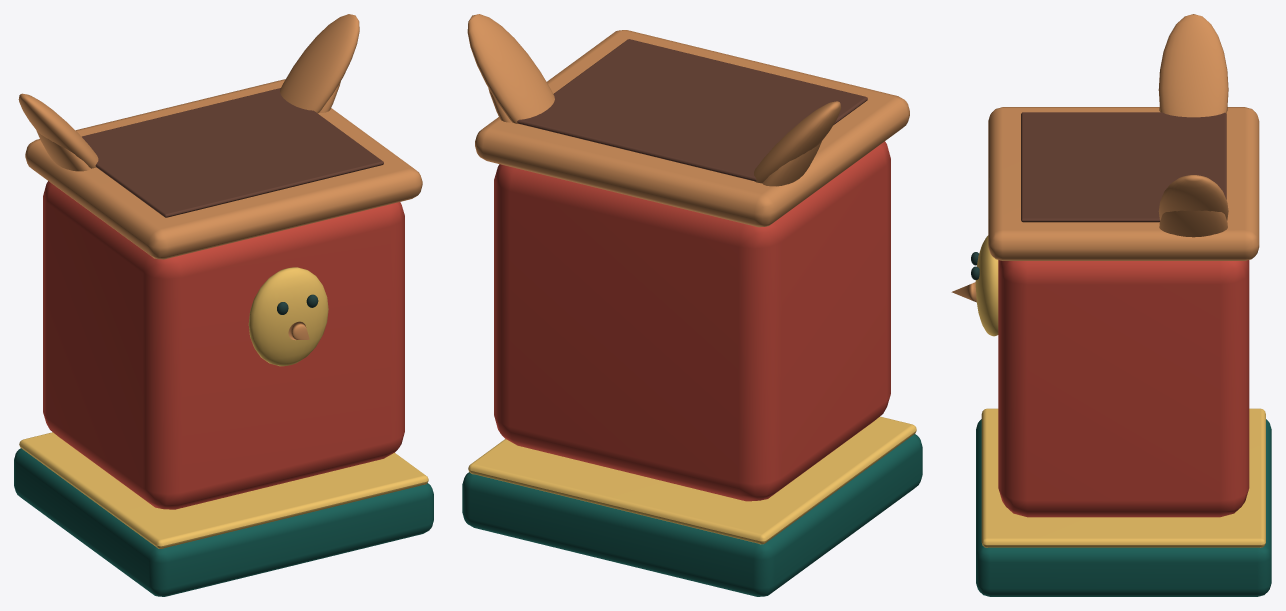
3 views of the same model, side by side, from view 1: azimuth 30°, elevation 25°; view 2: azimuth 150°, elevation 25°; view 3: azimuth 270°, elevation 25° (orthographic). The views are drawn at different scales.
Visible parts, largest first — view 1: Foundry body, Oil well lip, Oil well, Jade footing, Brass welt; view 2: Foundry body, Oil well lip, Oil well, Jade footing, Brass welt; view 3: Foundry body, Oil well lip, Oil well, Jade footing, Brass welt.
Part boxes in pixels (box(x1,y1,x2,y2)): Foundry body: box(43, 181, 404, 509); Oil well lip: box(18, 14, 422, 340); Oil well: box(82, 88, 383, 217); Jade footing: box(14, 448, 433, 596); Brass welt: box(19, 267, 428, 548); Foundry body: box(494, 141, 890, 501); Oil well lip: box(467, 14, 909, 227); Oil well: box(517, 39, 867, 181); Jade footing: box(462, 434, 922, 596); Brass welt: box(468, 416, 916, 544); Foundry body: box(998, 260, 1249, 517); Oil well lip: box(951, 14, 1259, 302); Oil well: box(1021, 112, 1226, 222); Jade footing: box(976, 419, 1271, 596); Brass welt: box(975, 235, 1265, 547).
Size of the model in its own units: 0.9449 by 1.17 by 0.78.
